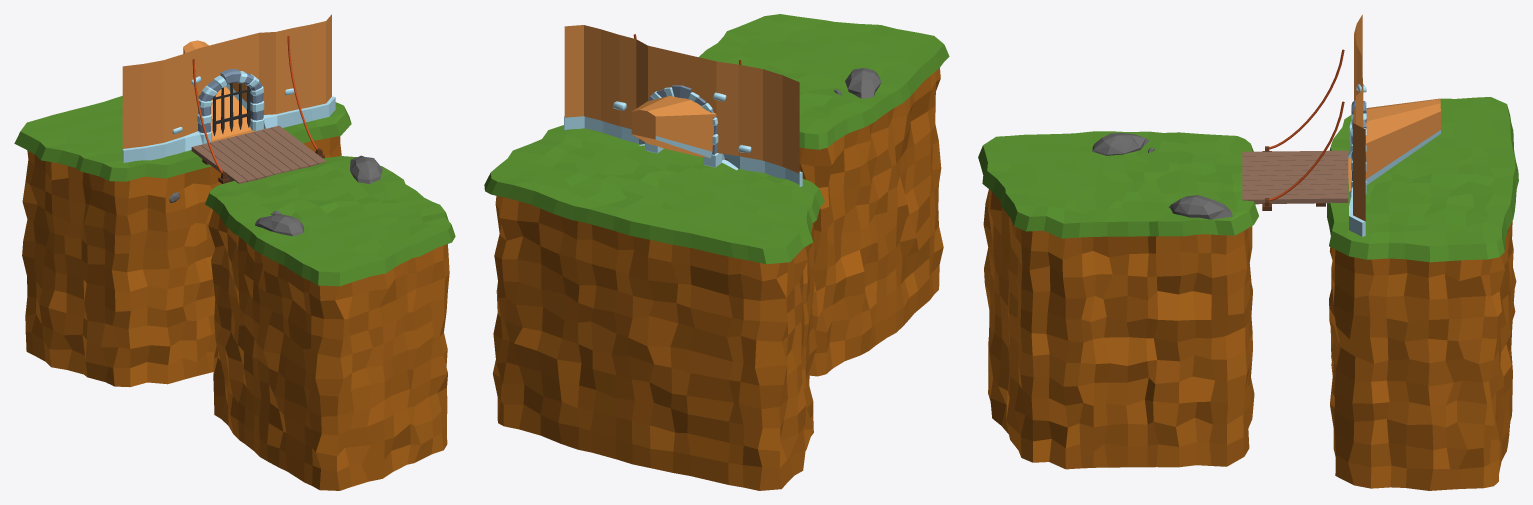
The model's file is Castle_level.fbx.
3 renders of one model, left to right at view 1: azimuth 30°, elevation 25°; view 2: azimuth 150°, elevation 25°; view 3: azimuth 270°, elevation 25°, orthographic. The views are drawn at different scales.
Parts seen in each view (by area): view 1: Plane.034, Plane.035, Plane.036, Cube.029, Cylinder.016, Cube.039, Cube.036, Cube.038, BezierCurve.001; view 2: Plane.035, Plane.034, Plane.036, Cylinder.016, Cube.036; view 3: Plane.034, Plane.035, Plane.036, Cube.029, Cube.038, Cube.036, BezierCurve.001.
Boxes of the visible parts, x1,y1,x2,y2 form: Plane.034: (205, 156, 455, 490); Plane.035: (14, 96, 351, 387); Plane.036: (122, 14, 335, 162); Cube.029: (191, 125, 326, 183); Cylinder.016: (197, 69, 264, 143); Cube.039: (212, 83, 251, 135); Cube.036: (255, 214, 304, 236); Cube.038: (350, 155, 382, 184); BezierCurve.001: (192, 36, 317, 172); Plane.035: (484, 125, 824, 490); Plane.034: (698, 14, 949, 376); Plane.036: (564, 25, 802, 186); Cylinder.016: (645, 85, 721, 167); Cube.036: (845, 68, 881, 98); Plane.034: (978, 131, 1258, 469); Plane.035: (1327, 97, 1518, 490); Plane.036: (1348, 14, 1440, 236); Cube.029: (1242, 150, 1348, 204); Cube.038: (1169, 195, 1232, 219); Cube.036: (1092, 133, 1149, 155); BezierCurve.001: (1269, 49, 1344, 201).
Size of the model in its own units: 1193 by 1275 by 1757.
